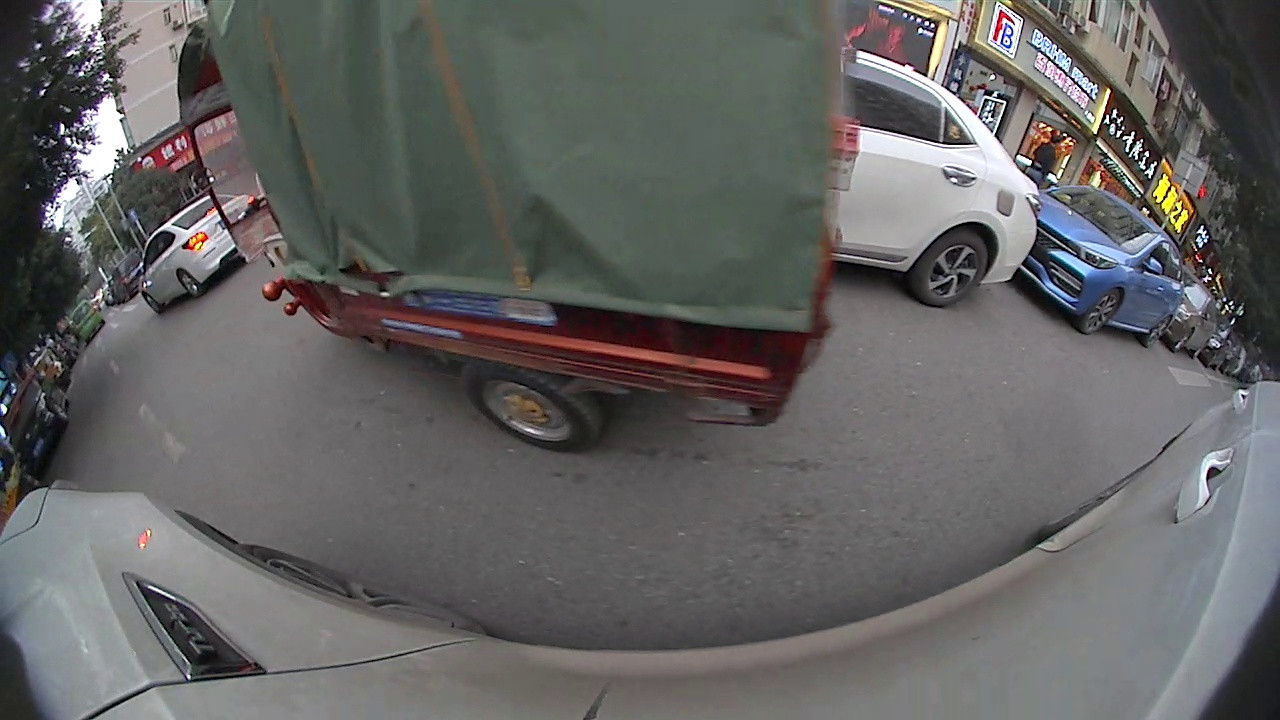car: (827, 47, 1041, 310), (1016, 181, 1189, 353), (134, 193, 267, 317), (1162, 267, 1223, 360)
front: (1082, 285, 1124, 338)
person: (1037, 131, 1066, 184)
rear: (460, 348, 604, 457), (913, 228, 990, 306), (1142, 310, 1173, 348), (175, 272, 204, 301)
rider: (174, 1, 860, 460)
